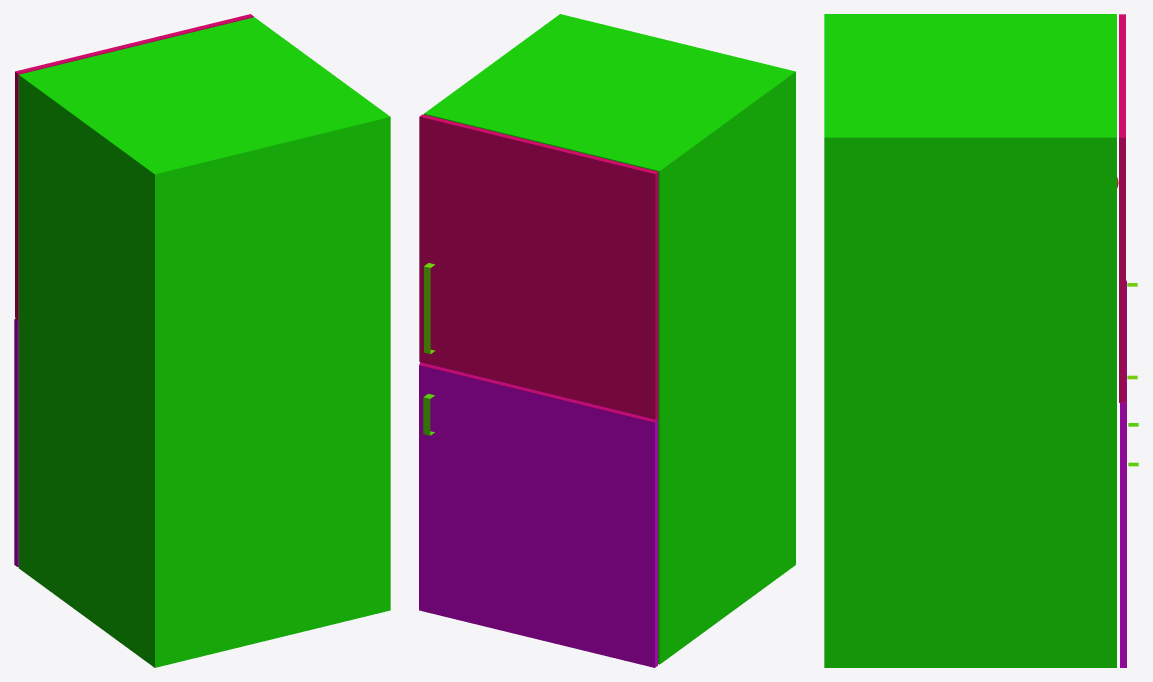
Rendered from Refrigerator.fbx.
3 views of the same model, side by side, from view 1: azimuth 30°, elevation 25°; view 2: azimuth 150°, elevation 25°; view 3: azimuth 270°, elevation 25° (orthographic). The views are drawn at different scales.
Parts seen in each view (by area): view 1: Cylinder.007, Cube.023, Cube.026; view 2: Cylinder.007, Cube.023, Cube.026; view 3: Cylinder.007, Cube.023, Cube.026.
Boxes of the visible parts, left/top/right/bottom form: Cylinder.007: left=18, top=17, right=390, bottom=667; Cube.023: left=15, top=14, right=253, bottom=320; Cube.026: left=14, top=318, right=18, bottom=566; Cylinder.007: left=424, top=14, right=795, bottom=664; Cube.023: left=419, top=114, right=658, bottom=422; Cube.026: left=419, top=362, right=657, bottom=667; Cylinder.007: left=824, top=14, right=1118, bottom=667; Cube.023: left=1119, top=14, right=1137, bottom=403; Cube.026: left=1120, top=280, right=1138, bottom=667.
Bounding box in the file's own units: 20.03 × 40 × 21.49.
